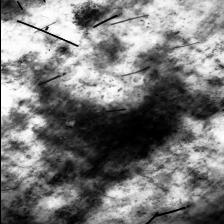Potentially Malignant Skin Tumors: (13, 1, 224, 212)
